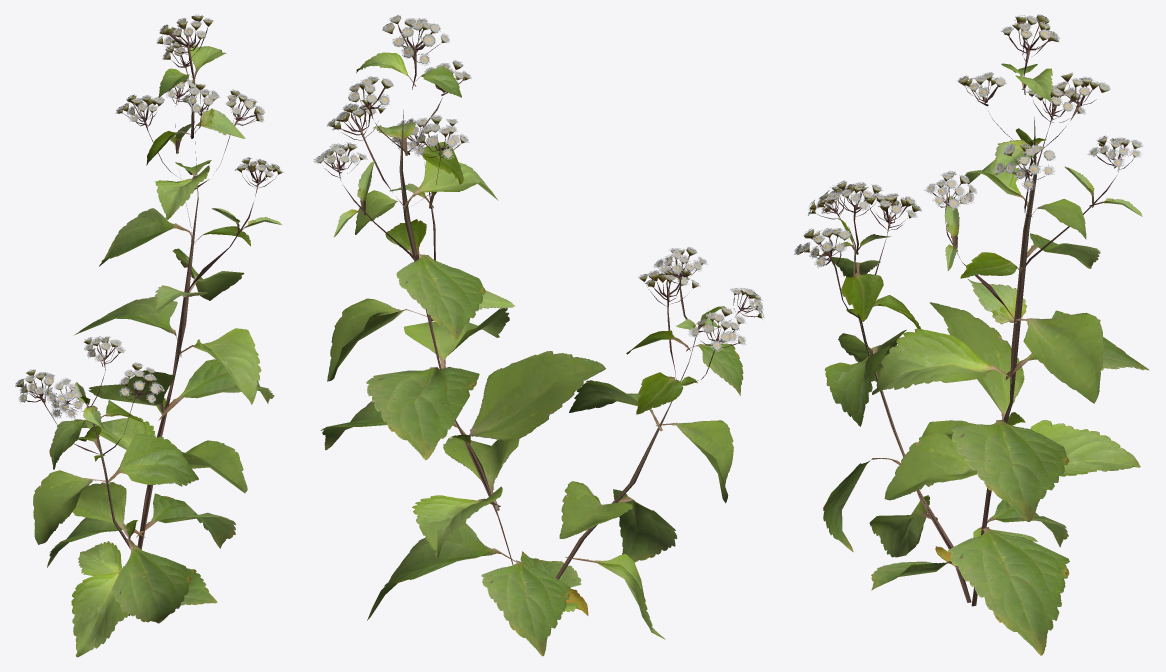
The picture shows the model from 3 angles, left to right: view 1: azimuth 30°, elevation 25°; view 2: azimuth 150°, elevation 25°; view 3: azimuth 270°, elevation 25°; orthographic projection. The views are drawn at different scales.
Visible parts, largest first — view 1: shrub_01__b_lod0; view 2: shrub_01__b_lod0; view 3: shrub_01__b_lod0.
Boxes of the visible parts, x1,y1,x2,y2 form: shrub_01__b_lod0: (15,14,283,657); shrub_01__b_lod0: (313,14,764,656); shrub_01__b_lod0: (794,14,1149,655).
Bounding box in the file's own units: 0.2341 × 0.3983 × 0.204.
Materials: 1 (1 with a texture image).
